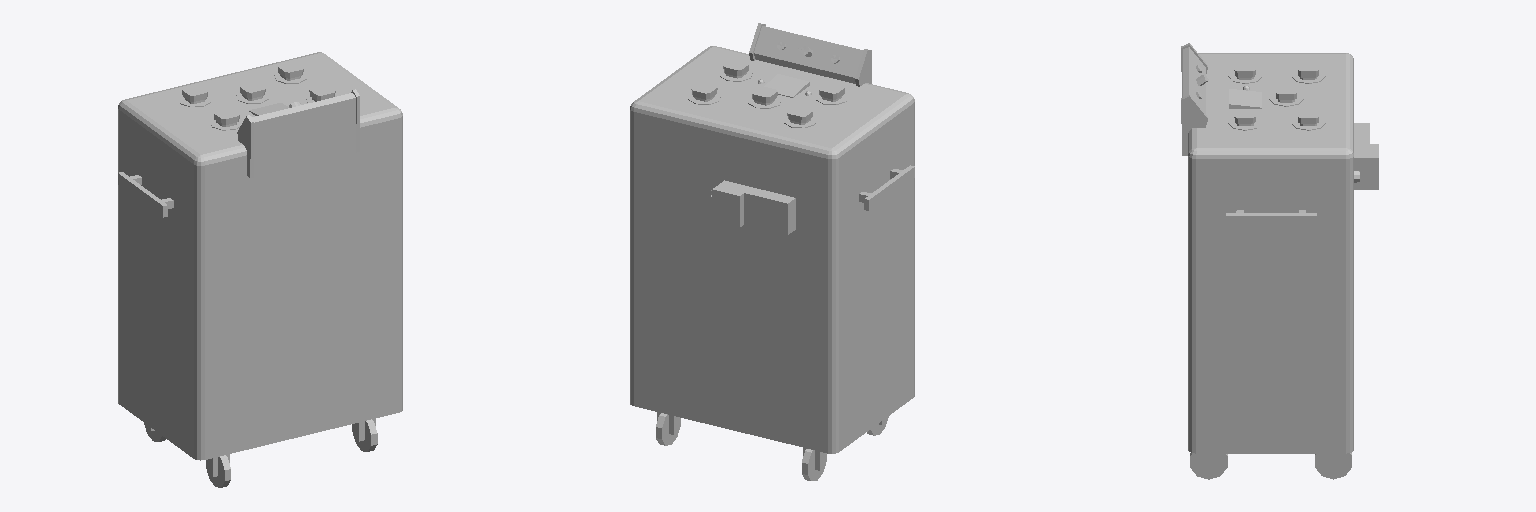
Rendered from Electro Spark.obj.
3 views of the same model, side by side, from view 1: azimuth 30°, elevation 25°; view 2: azimuth 150°, elevation 25°; view 3: azimuth 270°, elevation 25° (orthographic).
Parts seen in each view (by area): view 1: Electro_Spark; view 2: Electro_Spark; view 3: Electro_Spark.
Boxes of the visible parts, box(x1,y1,x2,y2) form: Electro_Spark: box(118, 52, 402, 487); Electro_Spark: box(630, 23, 914, 480); Electro_Spark: box(1181, 43, 1378, 479).
Size of the model in its own units: 58.8 by 87.46 by 42.